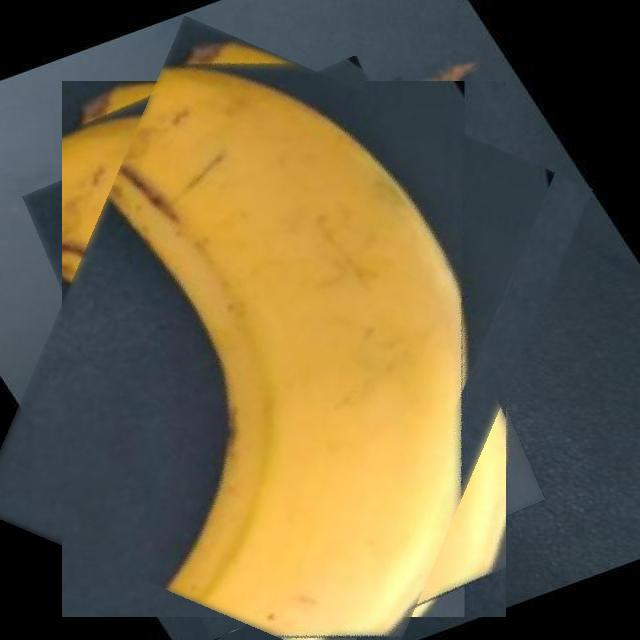Madura: (18, 48, 549, 640)
